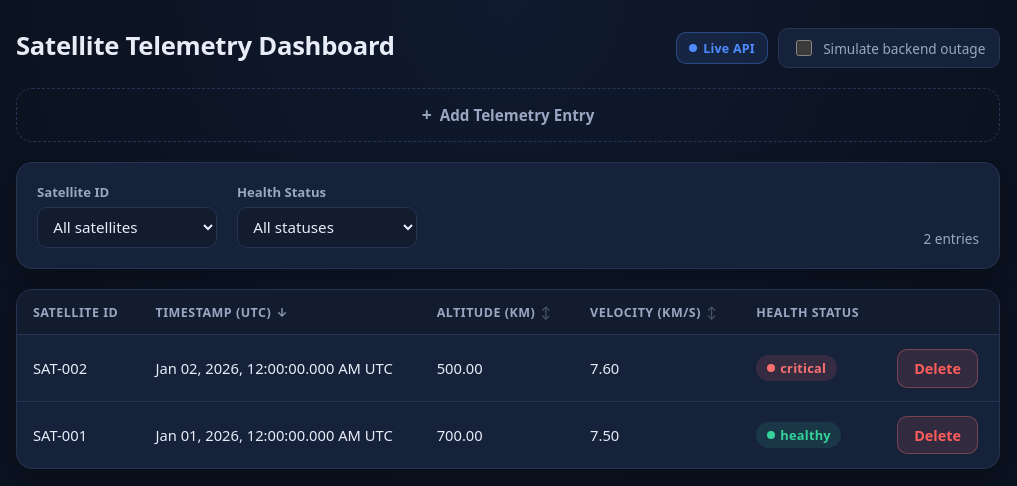
Scenario: App › filters the table by satellite id and health status
Expected: the text "SAT-001" is shown, [17,402,140,468]
Step 1. Select "SAT-002" in the dropdown labelled "Satellite ID" → (127, 227), box [37,207,217,248]
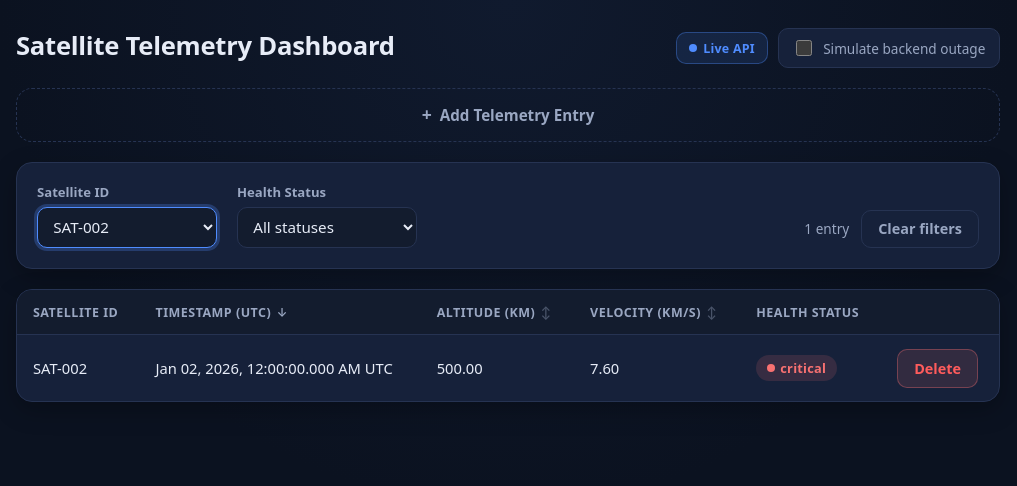
Expected: the text "SAT-002" is shown, [17,335,140,401]
Now the text "SAT-001" is gone
Step 2. Select "All satellites" in the dropdown labelled "Satellite ID" → (127, 227), box [37,207,217,248]
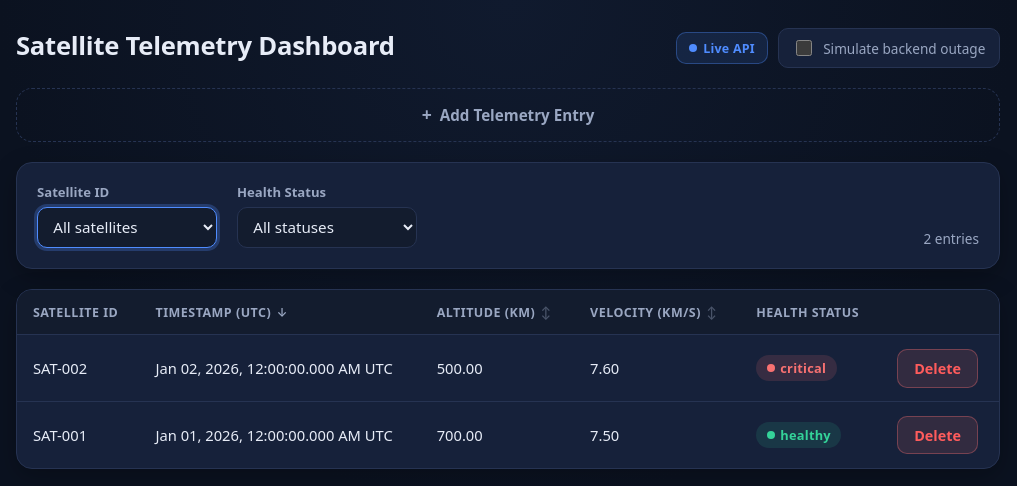
Step 3. Select "critical" in the dropdown labelled "Health Status" → (327, 227), box [237,207,417,248]
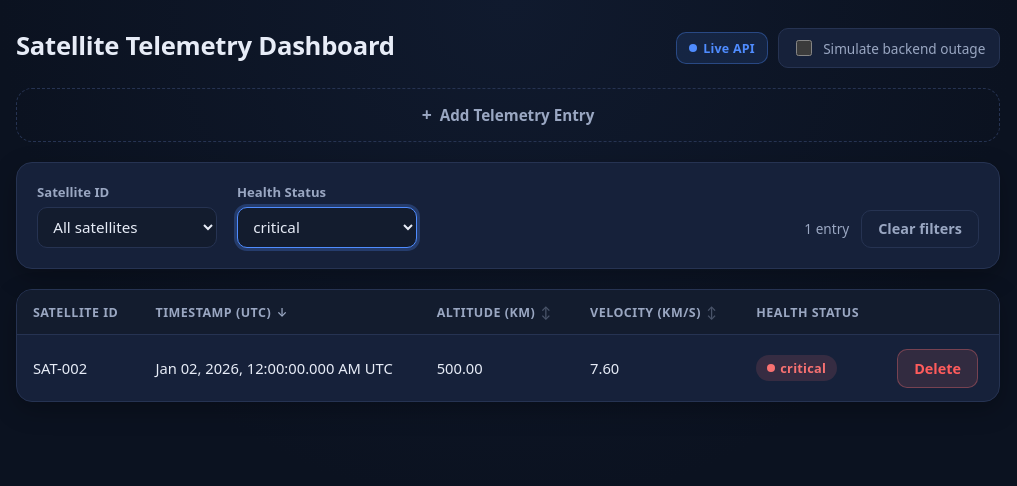
Expected: the text "SAT-002" is shown, [17,335,140,401]
Now the text "SAT-001" is gone
